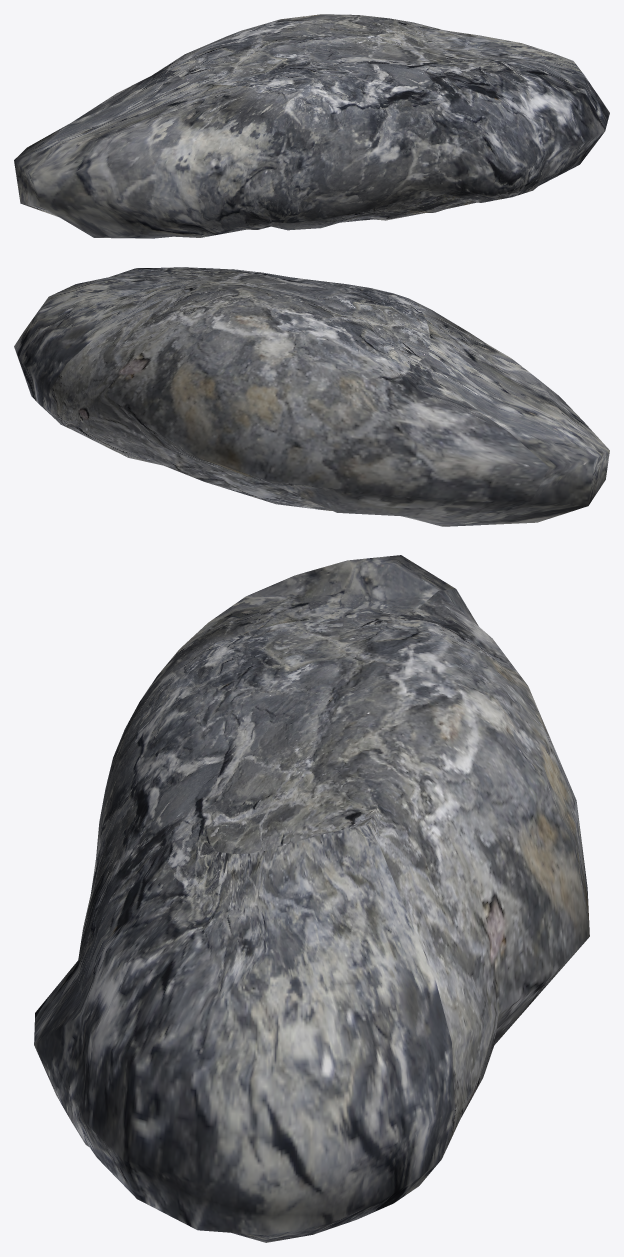
File: rock 4.fbx
3 renders of one model, top to bottom at view 1: azimuth 30°, elevation 25°; view 2: azimuth 150°, elevation 25°; view 3: azimuth 270°, elevation 25°, orthographic. The views are drawn at different scales.
Visible parts, largest first — view 1: pCube6; view 2: pCube6; view 3: pCube6.
Part boxes in pixels (left/top/right/bottom): pCube6: left=14, top=14, right=609, bottom=238; pCube6: left=14, top=267, right=609, bottom=526; pCube6: left=34, top=555, right=589, bottom=1242.
Bounding box in the file's own units: 11.15 × 3.69 × 4.88.
